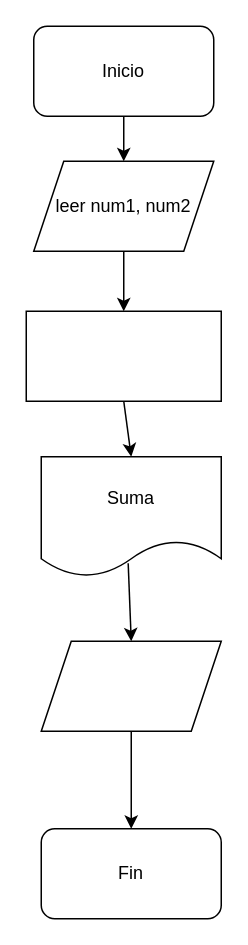
Some shapes in this 248 by 945 pixel diagram are drawn without their labels. The shapes that lost their labels are listed below. From the top down, each one's centre as x and y in pixels, then its label:
At pixel 123 355: "Suma= num1 + num2".
At pixel 130 685: "Mostrar suma".
